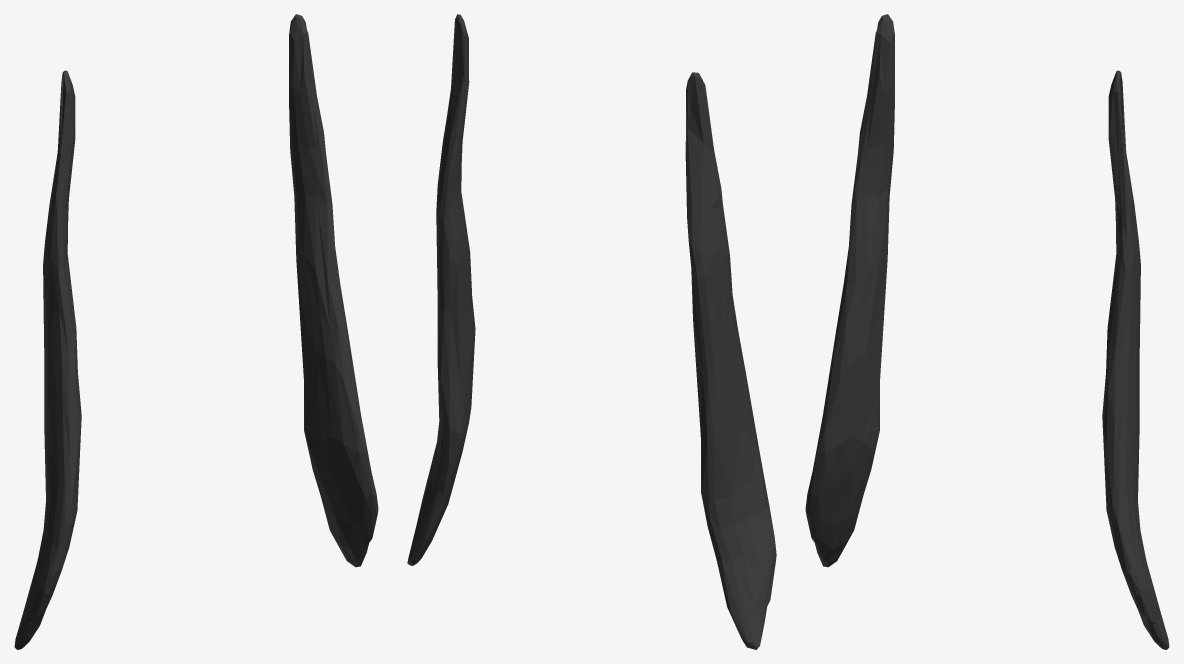
File: m_sartorius.glb
3 views of the same model, side by side, from view 1: azimuth 30°, elevation 25°; view 2: azimuth 150°, elevation 25°; view 3: azimuth 330°, elevation 25° (orthographic).
Parts seen in each view (by area): view 1: m_sartorius; view 2: m_sartorius; view 3: m_sartorius.
Part boxes in pixels (<box>): m_sartorius: <box>14,14,378,649</box>; m_sartorius: <box>407,14,776,649</box>; m_sartorius: <box>805,14,1169,649</box>.
Bounding box in the file's own units: 0.00451 × 0.00697 × 0.000982.
1 material, 1 textured.
